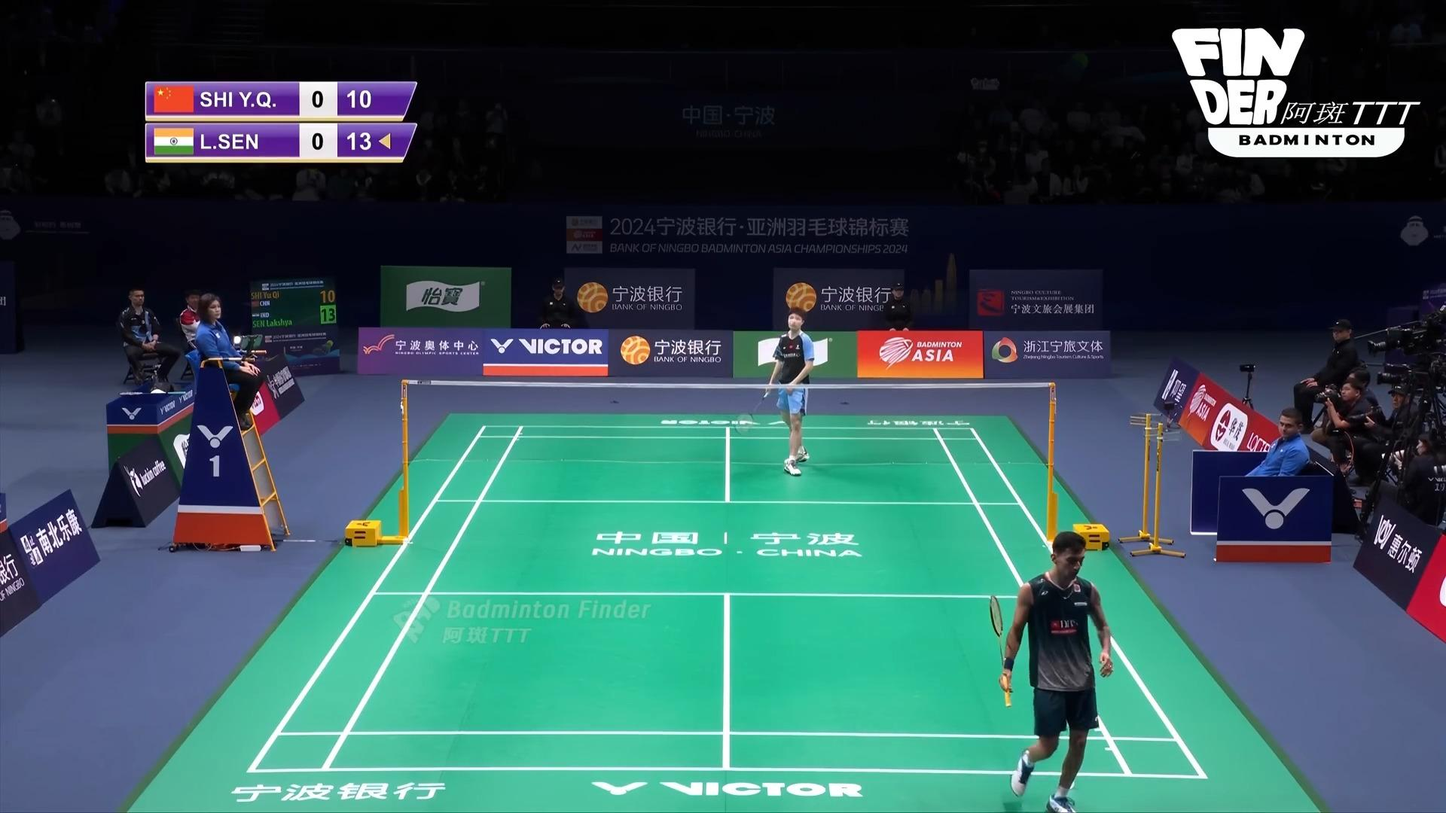player: (999, 531, 1114, 812), (764, 306, 815, 477)
